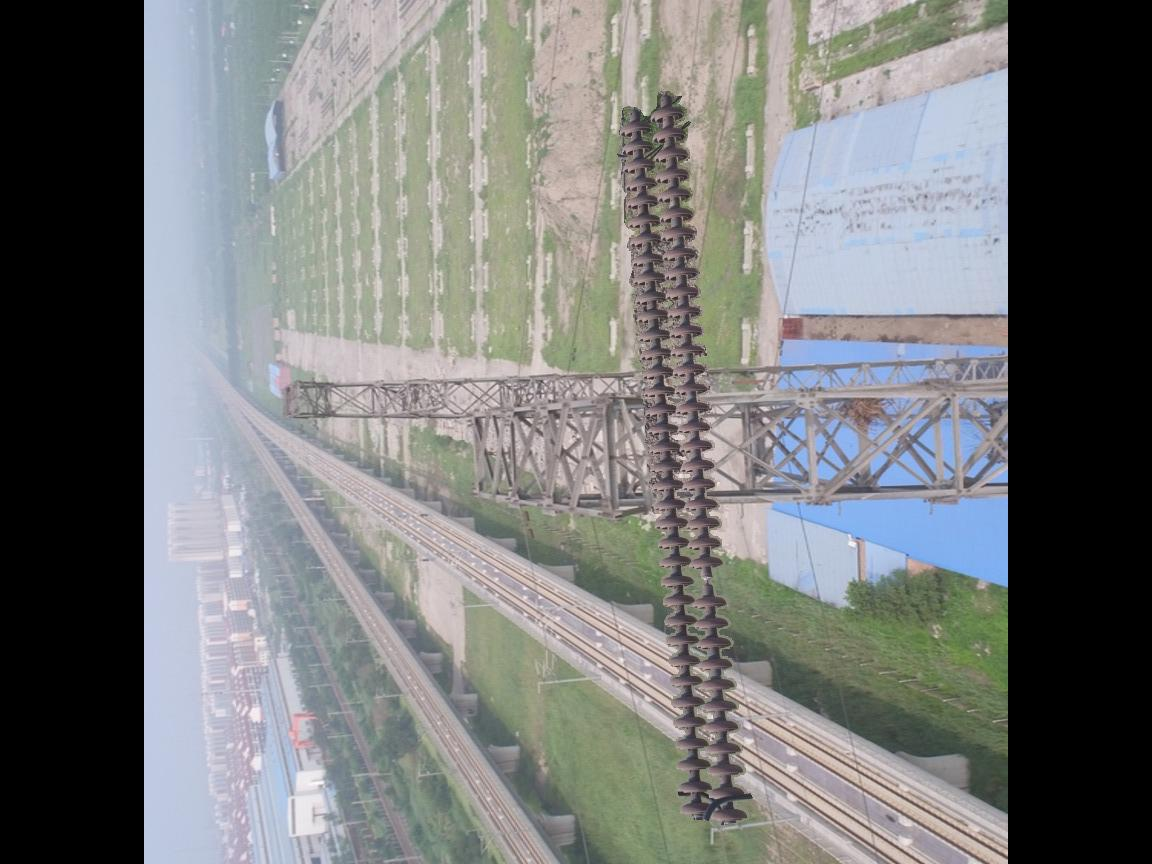insulator: (613, 87, 756, 827)
insulator_stringdrop: (688, 554, 730, 613)
